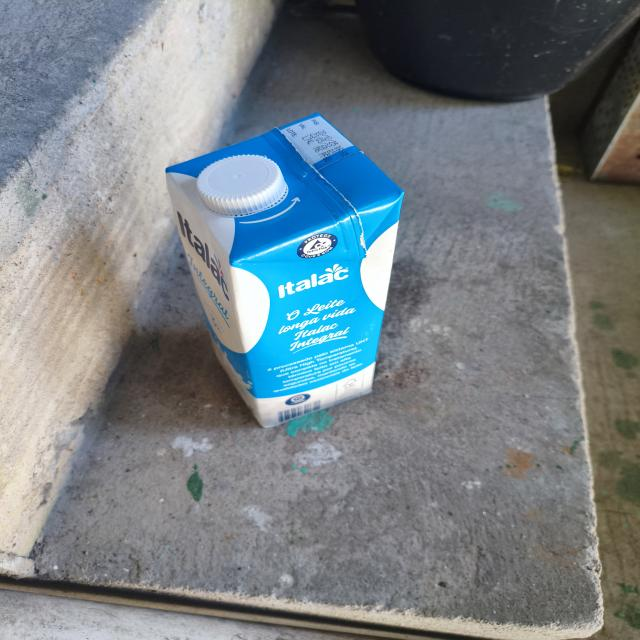Caixa de Leite: (152, 101, 397, 434)
